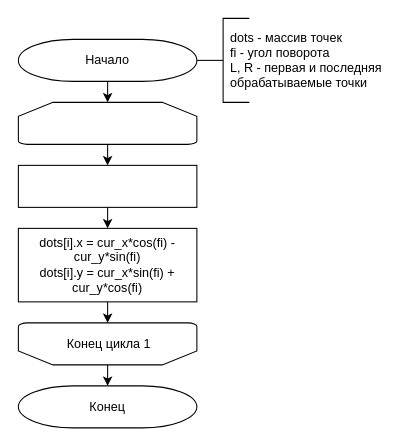
This 415x446 diagram has some shape labels left out. The box of each missing label's shape, as (x1, y1, x2, y2) in pixels:
cur_x = dots[i].x cur_y = dots[i].y: (17, 164, 197, 207)
Цикл 1 i=L; i<R; i=i+1: (17, 101, 197, 144)
